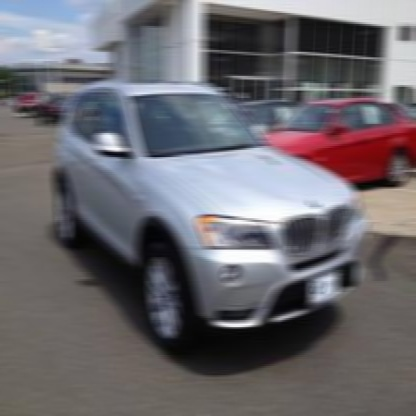Vehicle: (54, 78, 372, 361)
